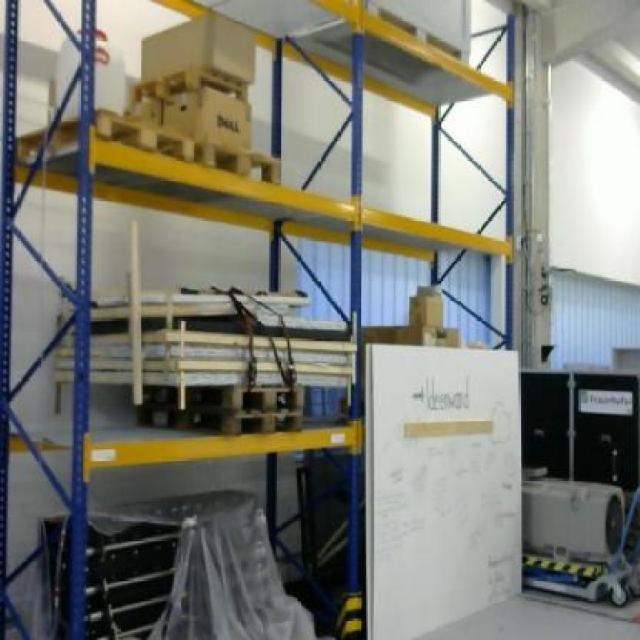box: (138, 11, 257, 84), (160, 88, 251, 150), (408, 294, 444, 328)
